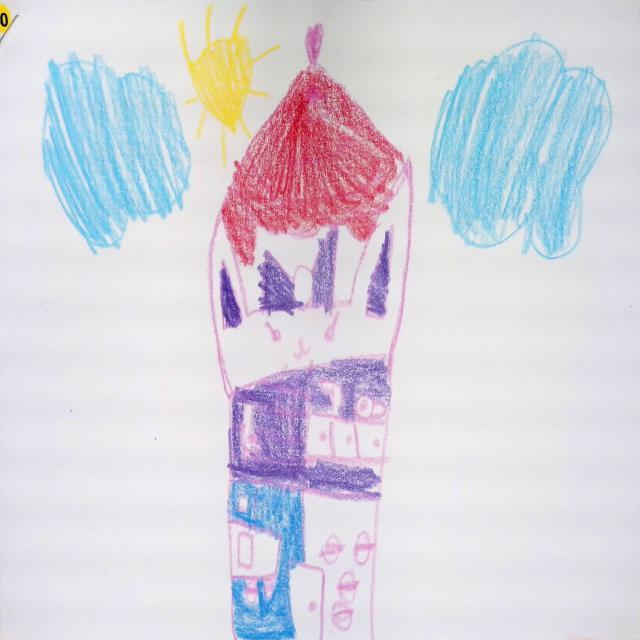door: (289, 555, 325, 639)
house: (210, 29, 413, 640)
roof: (222, 25, 403, 264)
wall: (212, 232, 400, 640)
window: (307, 412, 384, 464), (223, 518, 280, 581)
